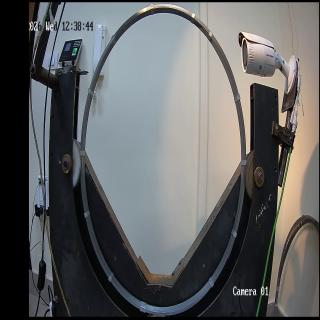clamp: (190, 12, 196, 25), (231, 228, 238, 239), (207, 30, 213, 42), (208, 276, 214, 288), (108, 271, 114, 283), (111, 34, 117, 46), (234, 93, 241, 103), (84, 209, 91, 219), (87, 87, 94, 97), (150, 3, 155, 16), (142, 301, 147, 313), (140, 300, 144, 312), (79, 150, 86, 156), (241, 159, 247, 165)
